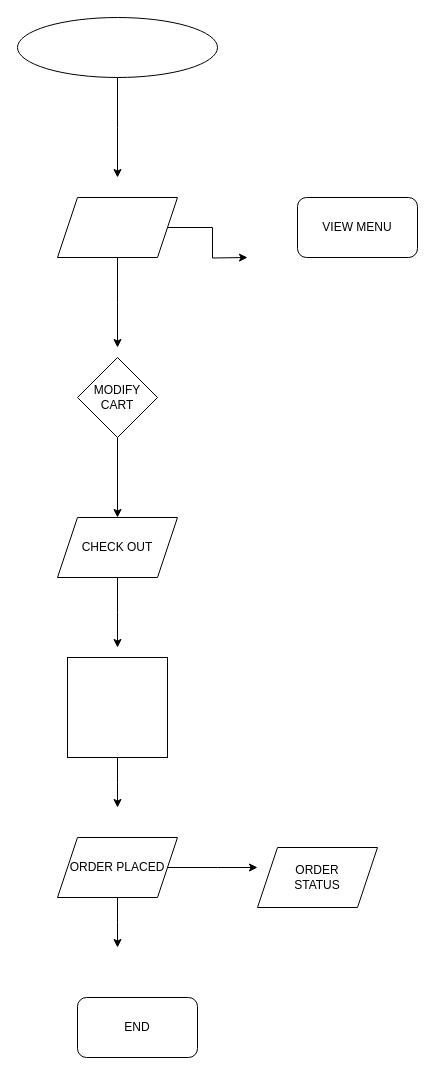
The diagram is 435 pixels wide and 1075 high, and some of its shapes have lost their labels. The box of each missing label's shape, as (x1, y1, x2, y2) in pixels:
ADMIN: (16, 16, 218, 78)
PAYMENT ONLINE/OFFLINE: (66, 656, 168, 758)
SELECT RESTAURANT: (56, 196, 178, 258)
